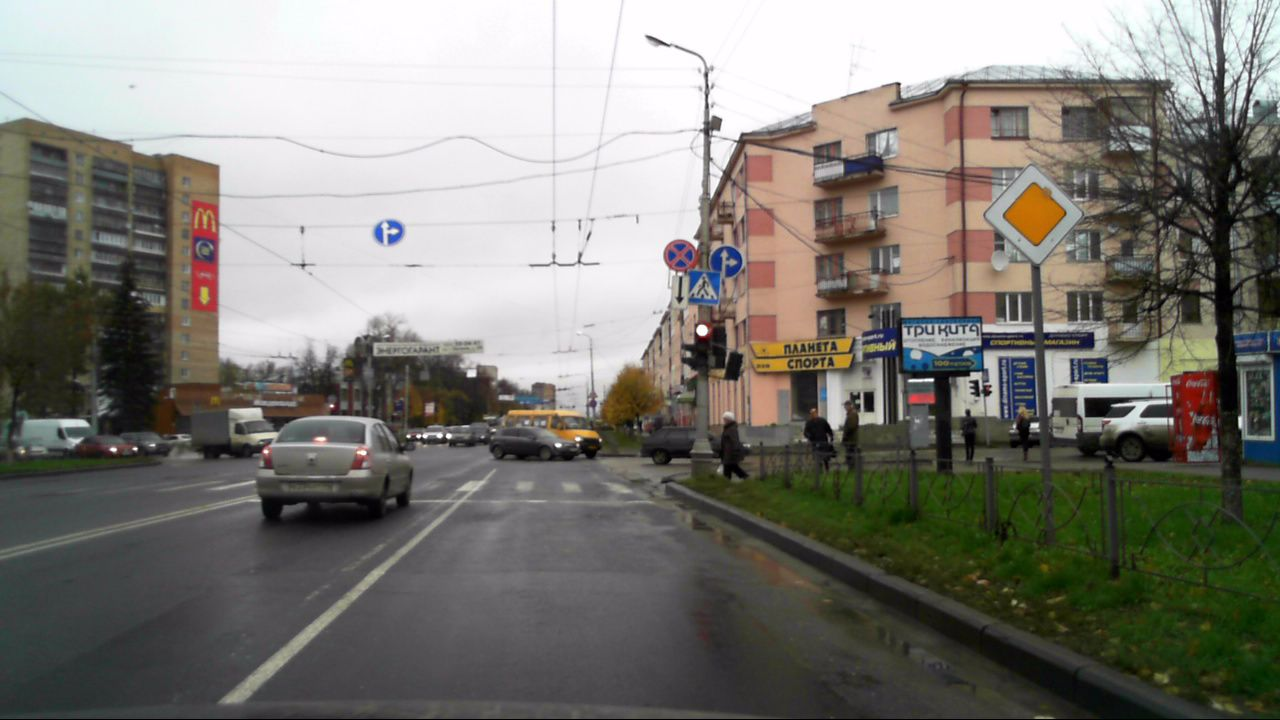No Parking: (662, 238, 697, 271)
